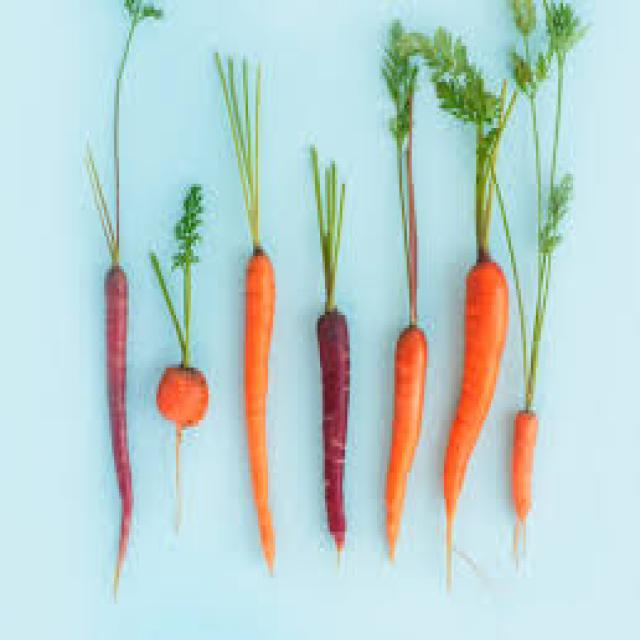Carrot: (243, 258, 280, 583)
